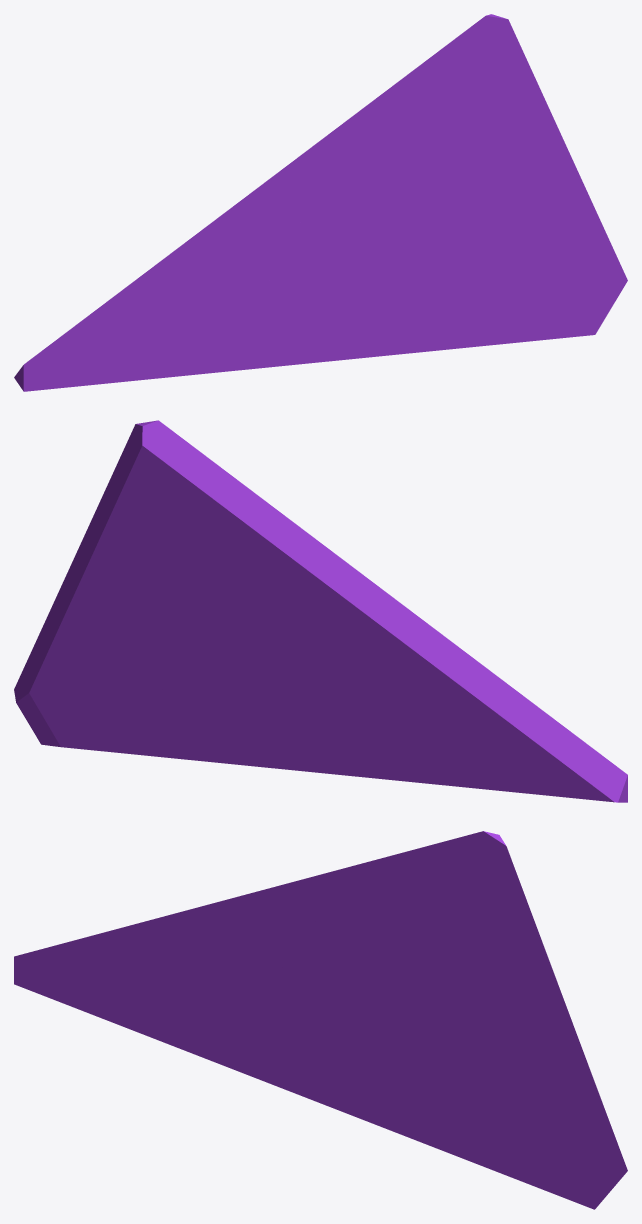
The model's file is Window_5_7_chunks.fbx.
3 views of the same model, one above another, from view 1: azimuth 30°, elevation 25°; view 2: azimuth 150°, elevation 25°; view 3: azimuth 330°, elevation 25° (orthographic).
Parts seen in each view (by area): view 1: Window_5_7_1, Window_5_7_3, Window_5_7_4, Window_5_7_2, Window_5_7_9, Window_5_7_8, Window_5_7_5, Window_5_7_6, Window_5_7_7; view 2: Window_5_7_1, Window_5_7_3, Window_5_7_2, Window_5_7_4, Window_5_7_8, Window_5_7_9, Window_5_7_7, Window_5_7_0, Window_5_7_5; view 3: Window_5_7_1, Window_5_7_3, Window_5_7_4, Window_5_7_2, Window_5_7_9, Window_5_7_8, Window_5_7_5, Window_5_7_6, Window_5_7_7.
Part boxes in pixels (<box>): Window_5_7_1: <box>404,14,627,338</box>; Window_5_7_3: <box>258,52,437,324</box>; Window_5_7_4: <box>14,288,272,391</box>; Window_5_7_2: <box>64,160,294,333</box>; Window_5_7_9: <box>188,247,422,374</box>; Window_5_7_8: <box>400,258,552,352</box>; Window_5_7_5: <box>231,112,358,301</box>; Window_5_7_6: <box>333,305,417,356</box>; Window_5_7_7: <box>187,336,371,375</box>; Window_5_7_1: <box>14,420,219,749</box>; Window_5_7_3: <box>195,457,395,747</box>; Window_5_7_2: <box>333,566,586,746</box>; Window_5_7_4: <box>370,706,627,802</box>; Window_5_7_8: <box>85,683,239,762</box>; Window_5_7_9: <box>216,672,421,778</box>; Window_5_7_7: <box>222,731,429,783</box>; Window_5_7_0: <box>136,631,241,717</box>; Window_5_7_5: <box>288,518,351,572</box>; Window_5_7_1: <box>400,831,627,1209</box>; Window_5_7_3: <box>252,844,434,1039</box>; Window_5_7_4: <box>14,945,265,1048</box>; Window_5_7_2: <box>55,883,289,981</box>; Window_5_7_9: <box>181,1025,419,1082</box>; Window_5_7_8: <box>396,1046,551,1192</box>; Window_5_7_5: <box>225,865,353,1009</box>; Window_5_7_6: <box>328,1081,413,1139</box>; Window_5_7_7: <box>179,1048,367,1121</box>.
Bounding box in the file's own units: 912 × 499 × 27.2.
